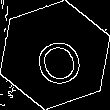O_N: (25, 24, 85, 86)
